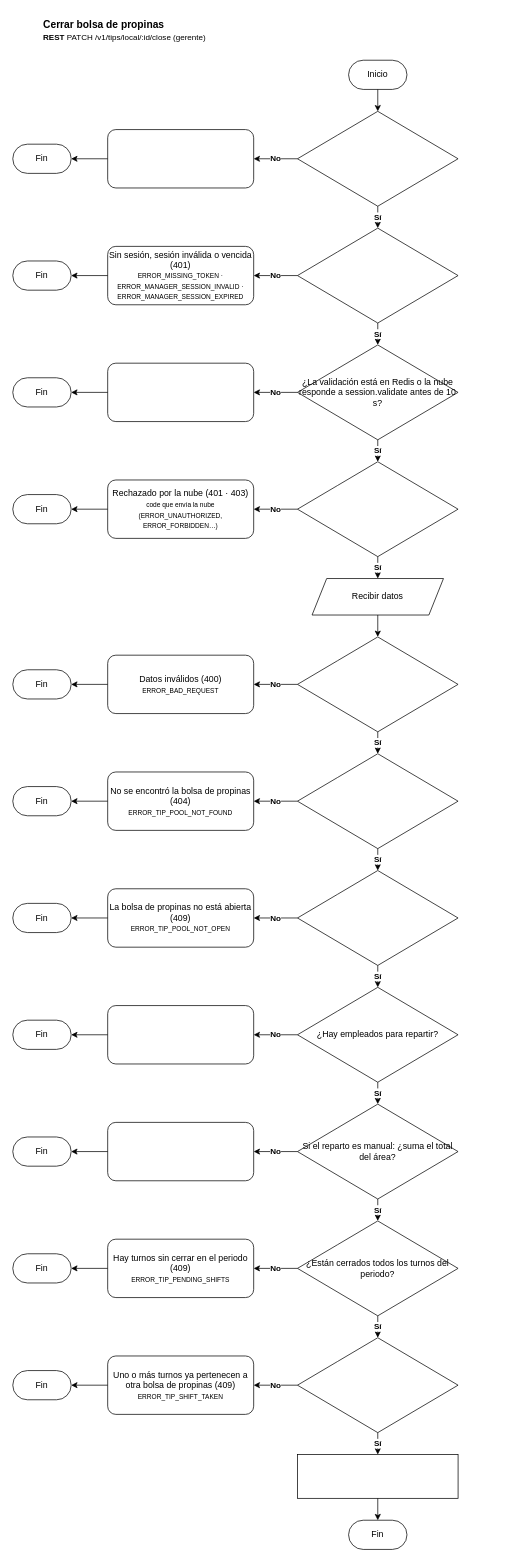
Image size: 522x1562. Some labels were removed from this diagram. Each missing label, with the centre of its shape:
"El reparto manual no suma el total de la propina (409) ERROR_TIP_MANUAL_MISMATCH" goes at point (180, 1151).
"La nube no responde (503) ERROR_CLOUD_UNAVAILABLE · ERROR_SERVER_UNLINKED" goes at point (180, 392).
"No hay empleados para repartir la propina (409) ERROR_TIP_NO_PARTICIPANTS" goes at point (180, 1034).
"Responder 200 con el mensaje POOL_CLOSED" goes at point (377, 1476).
"Servidor sin emparejar (409) ERROR_SERVER_NOT_PAIRED" goes at point (180, 158).
"¿El servidor ya se emparejó alguna vez (pairing_status distinto de unpaired)?" goes at point (377, 158).
"¿Existe la bolsa de propinas?" goes at point (377, 801).
"¿La bolsa está abierta?" goes at point (377, 917).
"¿La nube acepta la sesión del gerente con este servidor?" goes at point (377, 509).
"¿Los datos son válidos?" goes at point (377, 684).
"¿Ningún turno pertenece ya a otra bolsa?" goes at point (377, 1385).
"¿Trae una sesión de gerente válida (Bearer mss_..., sin 30 min de inactividad)?" goes at point (377, 275).
